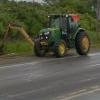Tractor: (30, 7, 90, 64)
